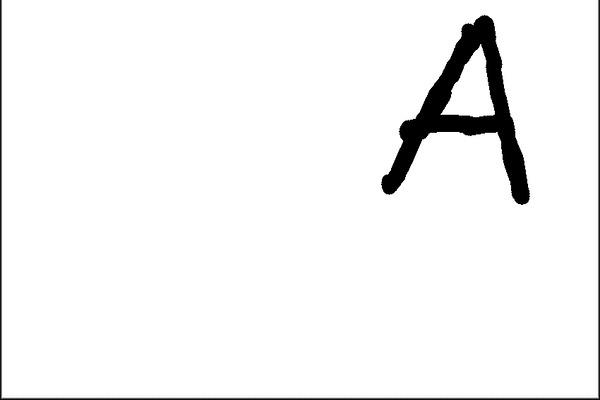A: (371, 11, 538, 216)
